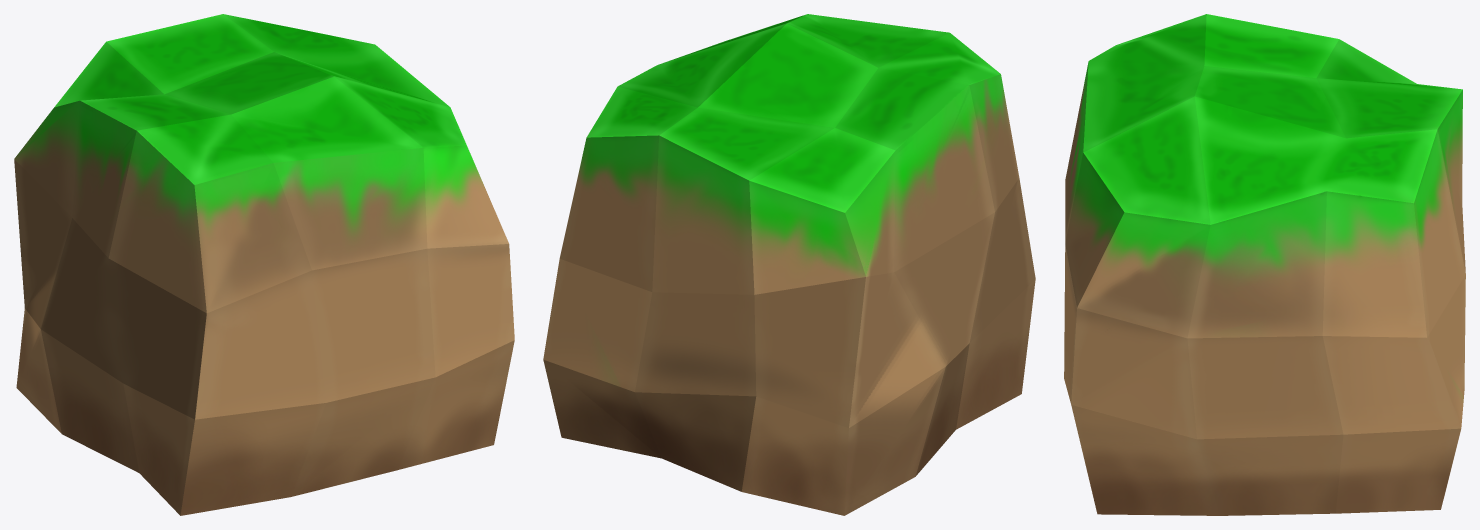
Rendered from Rock.fbx.
The picture shows the model from 3 angles, left to right: view 1: azimuth 30°, elevation 25°; view 2: azimuth 150°, elevation 25°; view 3: azimuth 270°, elevation 25°; orthographic projection. The views are drawn at different scales.
Parts seen in each view (by area): view 1: Cube; view 2: Cube; view 3: Cube.
Part boxes in pixels (x1,y1,x2,y2): Cube: (14,14,514,515); Cube: (543,14,1035,515); Cube: (1064,14,1465,515).
Bounding box in the file's own units: 2.17 × 2.07 × 2.08.
